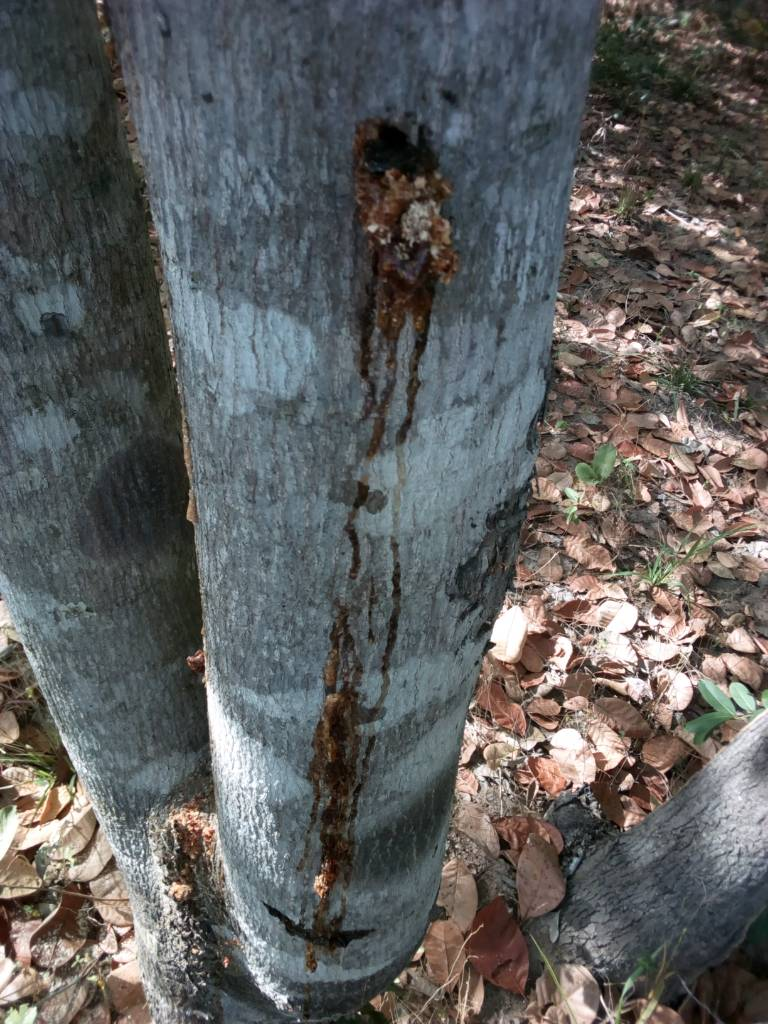Apate terebrans: (285, 19, 611, 307)
